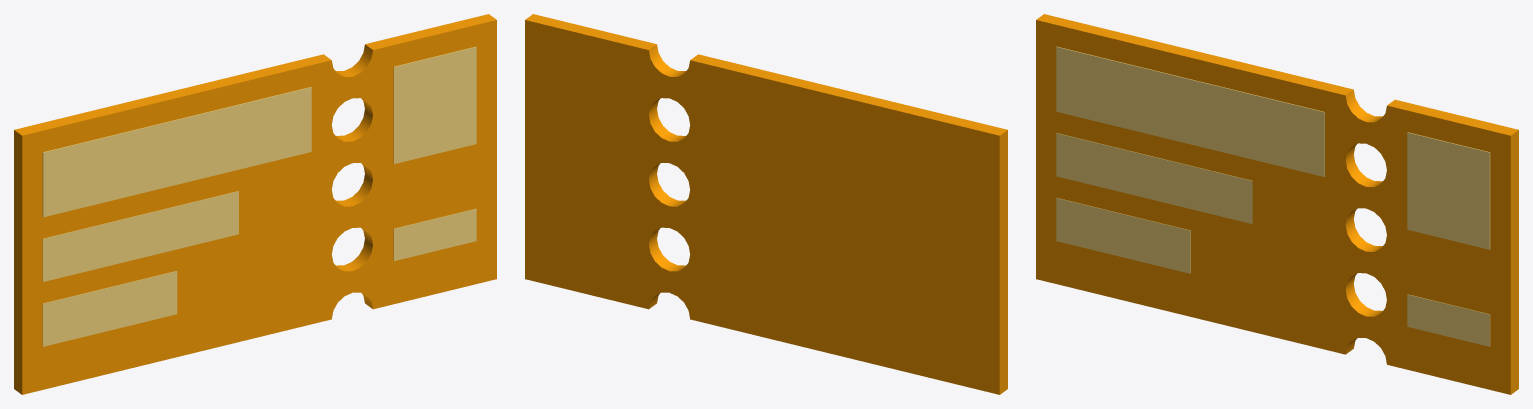
The model's file is ticket.glb.
3 views of the same model, side by side, from view 1: azimuth 30°, elevation 25°; view 2: azimuth 150°, elevation 25°; view 3: azimuth 330°, elevation 25° (orthographic).
Visible parts, largest first — view 1: Circle.277; view 2: Circle.277; view 3: Circle.277.
Part boxes in pixels (x1,y1,x2,y2): Circle.277: [14, 14, 496, 394]; Circle.277: [525, 14, 1007, 394]; Circle.277: [1036, 14, 1518, 394].
Bounding box in the file's own units: 2.39 × 1.25 × 0.0744.
Materials: 1 (1 with a texture image).
